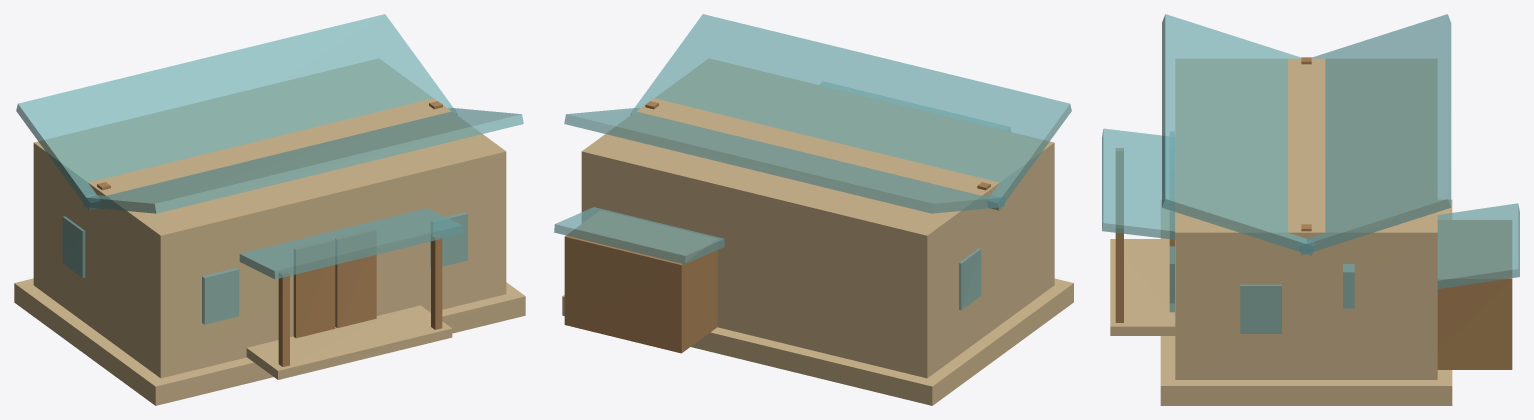
The model's file is Dining-Hall.glb.
3 renders of one model, left to right at view 1: azimuth 30°, elevation 25°; view 2: azimuth 150°, elevation 25°; view 3: azimuth 270°, elevation 25°, orthographic. The views are drawn at different scales.
Parts seen in each view (by area): view 1: dining-hall-static-dining-hall-cream-boards, dining-hall-static-dining-hall-charcoal-roof-and-glass, dining-hall-static-dining-hall-pale-stone, dining-hall-static-dining-hall-muted-teal-doors, dining-hall-static-dining-hall-warm-timber; view 2: dining-hall-static-dining-hall-cream-boards, dining-hall-static-dining-hall-charcoal-roof-and-glass, dining-hall-static-dining-hall-warm-timber, dining-hall-static-dining-hall-pale-stone; view 3: dining-hall-static-dining-hall-cream-boards, dining-hall-static-dining-hall-charcoal-roof-and-glass, dining-hall-static-dining-hall-pale-stone, dining-hall-static-dining-hall-warm-timber, dining-hall-static-dining-hall-muted-teal-doors.
Boxes of the visible parts, left/top/right/bottom form: dining-hall-static-dining-hall-cream-boards: left=33, top=58, right=506, bottom=378; dining-hall-static-dining-hall-charcoal-roof-and-glass: left=16, top=14, right=523, bottom=324; dining-hall-static-dining-hall-pale-stone: left=14, top=278, right=525, bottom=405; dining-hall-static-dining-hall-muted-teal-doors: left=293, top=229, right=376, bottom=338; dining-hall-static-dining-hall-warm-timber: left=97, top=101, right=442, bottom=366; dining-hall-static-dining-hall-cream-boards: left=581, top=58, right=1054, bottom=378; dining-hall-static-dining-hall-charcoal-roof-and-glass: left=554, top=14, right=1071, bottom=310; dining-hall-static-dining-hall-warm-timber: left=564, top=101, right=990, bottom=353; dining-hall-static-dining-hall-pale-stone: left=562, top=278, right=1073, bottom=405; dining-hall-static-dining-hall-cream-boards: left=1175, top=58, right=1437, bottom=379; dining-hall-static-dining-hall-charcoal-roof-and-glass: left=1102, top=14, right=1519, bottom=333; dining-hall-static-dining-hall-pale-stone: left=1110, top=199, right=1452, bottom=405; dining-hall-static-dining-hall-warm-timber: left=1115, top=57, right=1512, bottom=369; dining-hall-static-dining-hall-muted-teal-doors: left=1169, top=210, right=1174, bottom=302.
Bounding box in the file's own units: 6.88 × 3.51 × 6.44.
